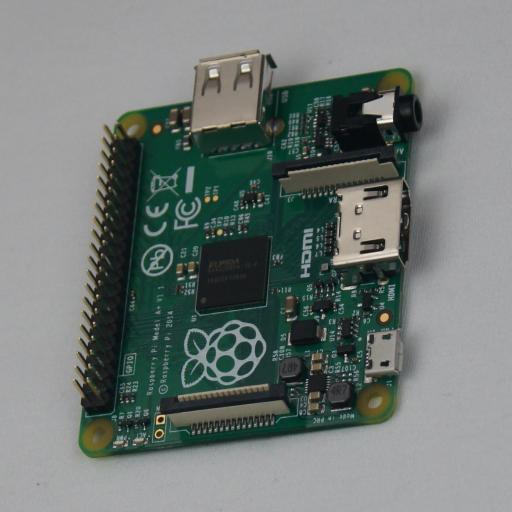Raspberry Pi A-: (75, 50, 429, 458)
